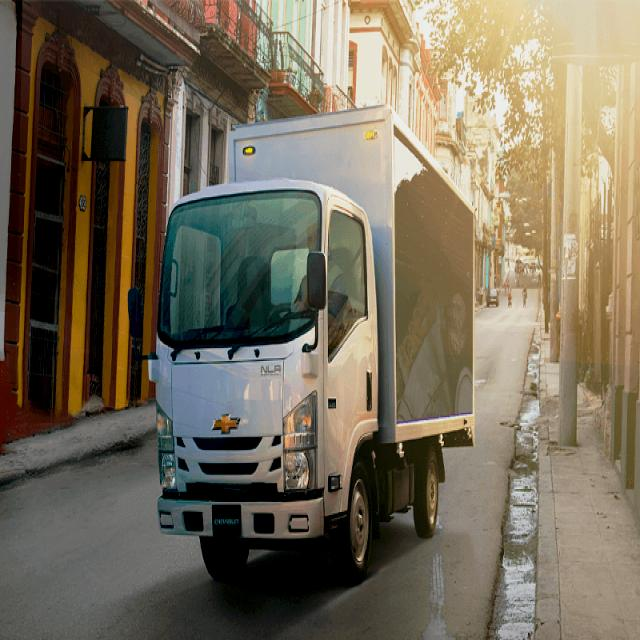TRUCK: (157, 105, 481, 603)
